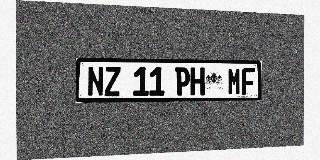1: (133, 67, 149, 96), (149, 67, 164, 96)
F: (241, 68, 255, 95)
H: (190, 67, 205, 95)
M: (227, 68, 241, 95)
N: (87, 66, 104, 96)
P: (175, 67, 190, 95)
Z: (104, 66, 120, 96)
